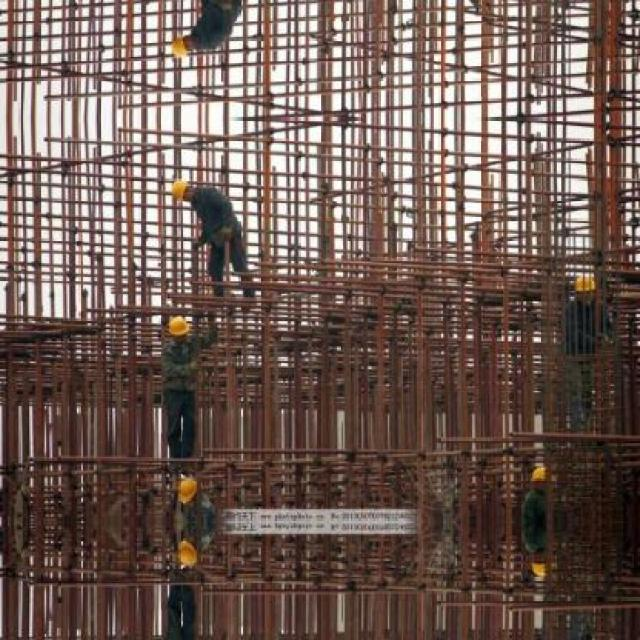helmet: (572, 269, 597, 303), (169, 174, 197, 203), (169, 30, 197, 59), (175, 473, 198, 505), (175, 535, 198, 567), (528, 463, 554, 491), (528, 549, 554, 577), (166, 313, 188, 339)
